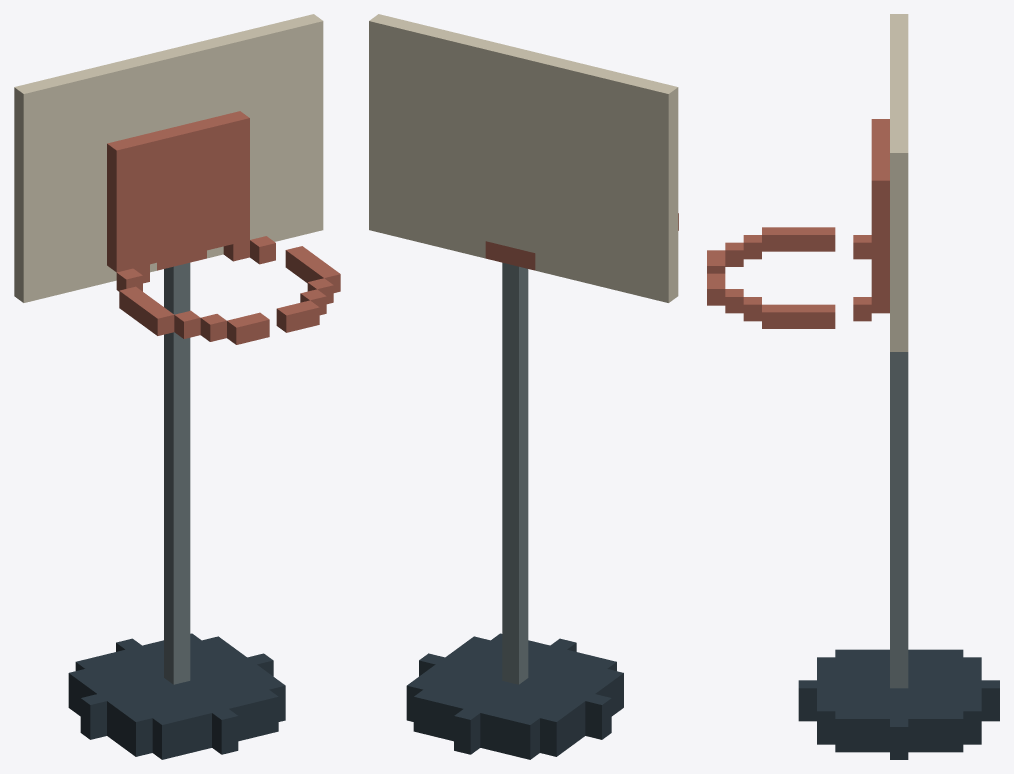
Rendered from sports-02.glb.
3 views of the same model, side by side, from view 1: azimuth 30°, elevation 25°; view 2: azimuth 150°, elevation 25°; view 3: azimuth 270°, elevation 25° (orthographic). The views are drawn at different scales.
Parts seen in each view (by area): view 1: Basketball hoop; view 2: Basketball hoop; view 3: Basketball hoop.
Part boxes in pixels (box(x1,y1,x2,y2)): Basketball hoop: box(14, 14, 340, 759); Basketball hoop: box(369, 14, 678, 759); Basketball hoop: box(707, 14, 999, 759).
Size of the model in its own units: 1.44 by 3.04 by 1.28.
